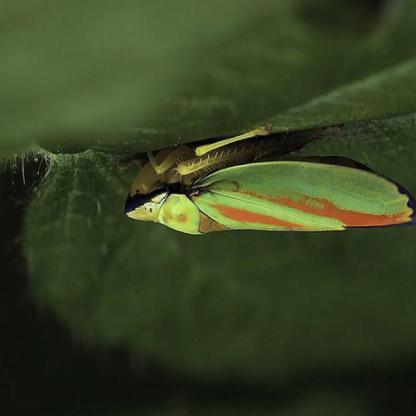green-leafhopper: (126, 152, 414, 238)
